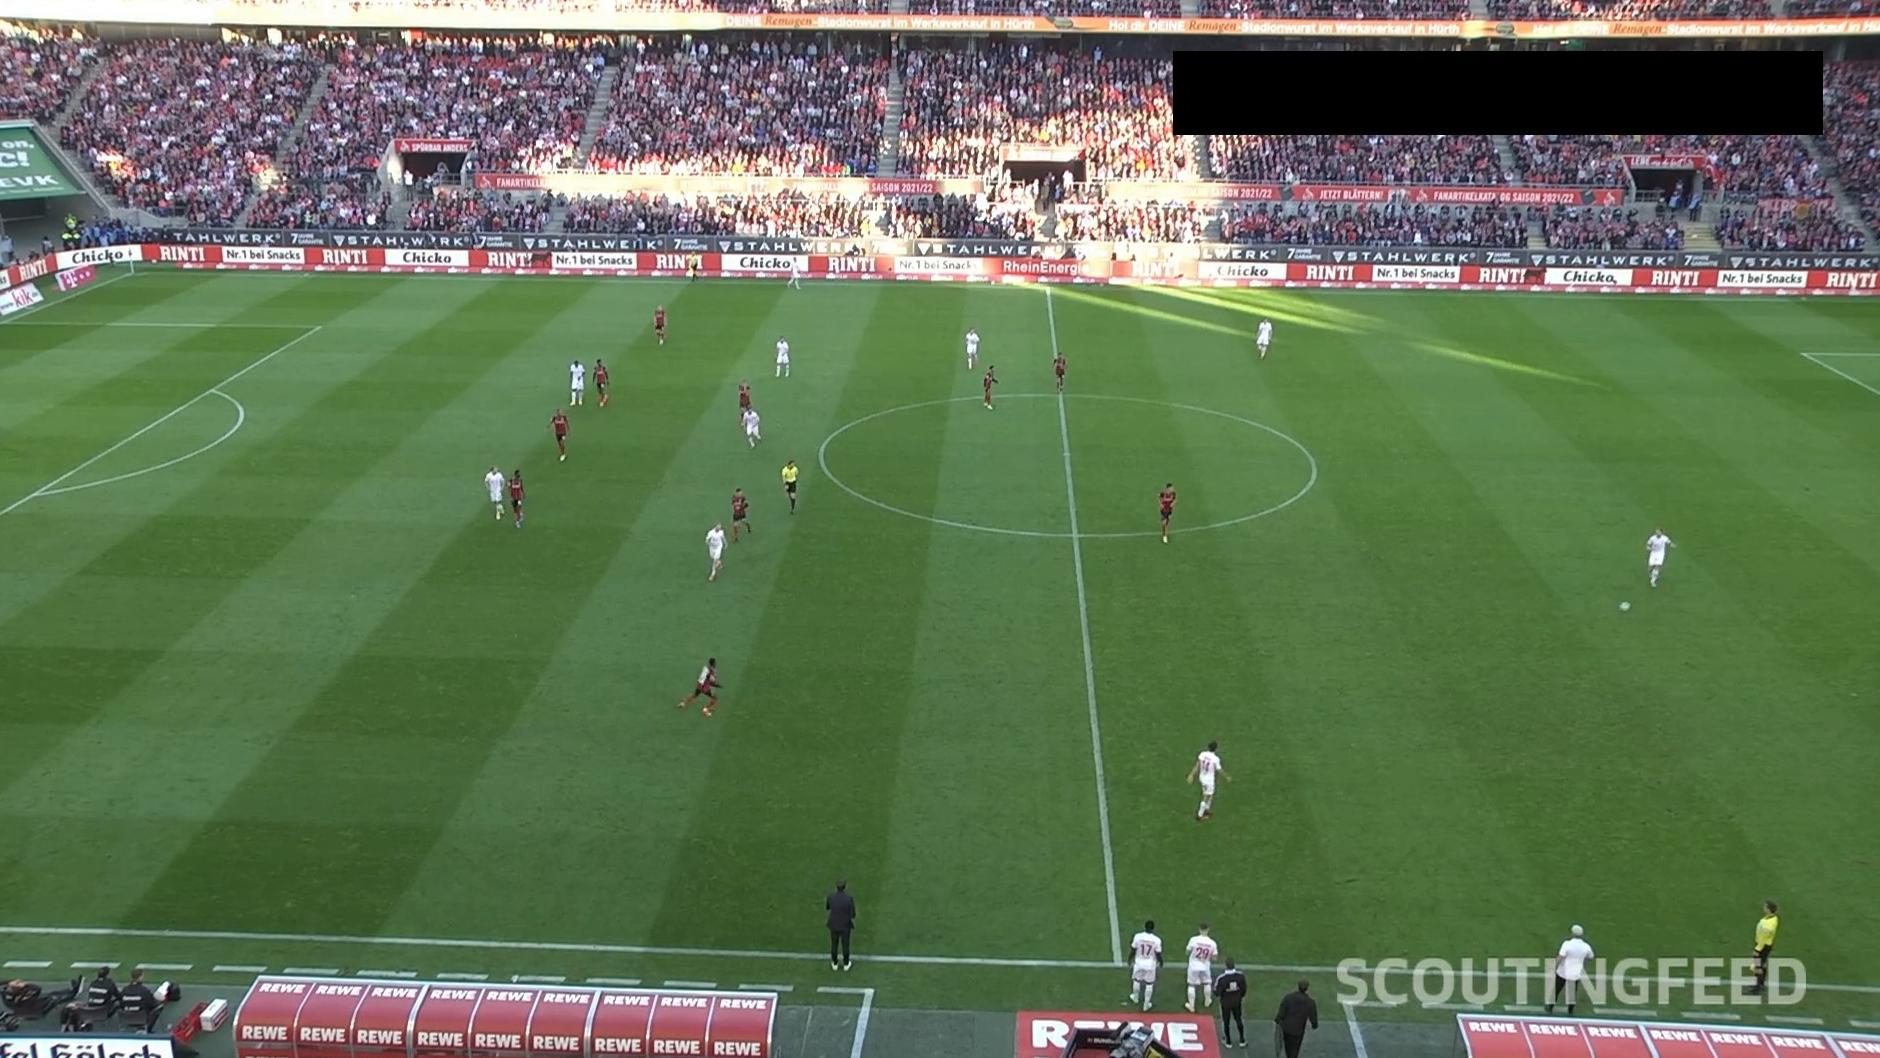ball: (1618, 601, 1632, 612)
